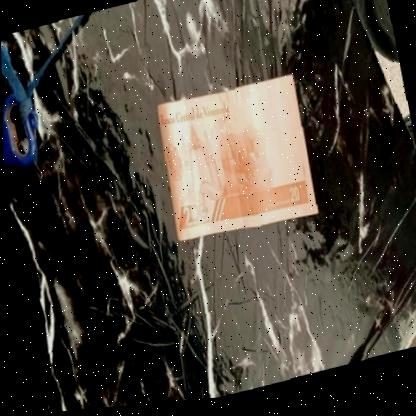vef_back: (151, 74, 318, 252)
